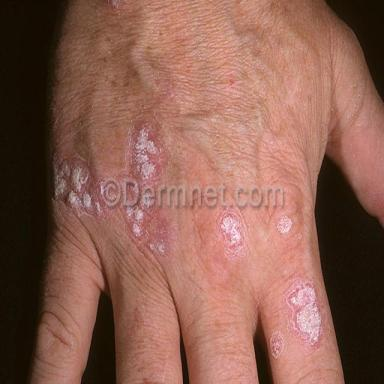Psoriasis: (51, 155, 109, 222), (282, 276, 325, 351), (124, 205, 173, 257), (125, 120, 163, 182), (217, 208, 247, 260), (270, 331, 284, 359), (277, 215, 293, 234)
